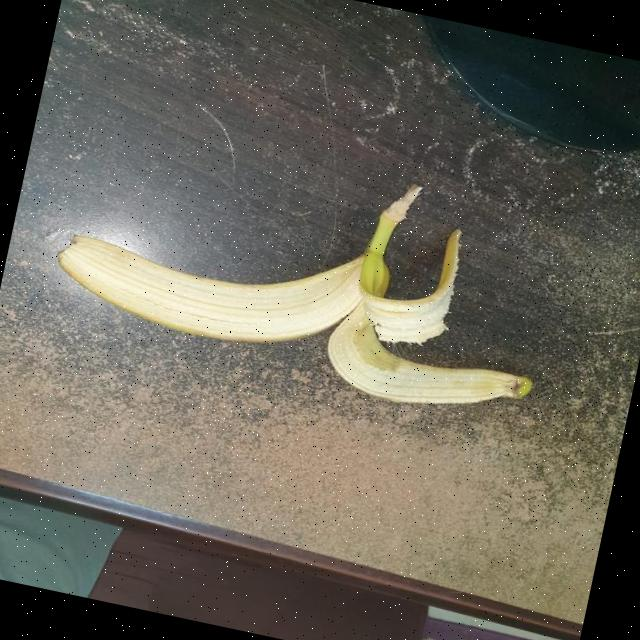banana-peel: (41, 112, 568, 428), (316, 174, 566, 428)
